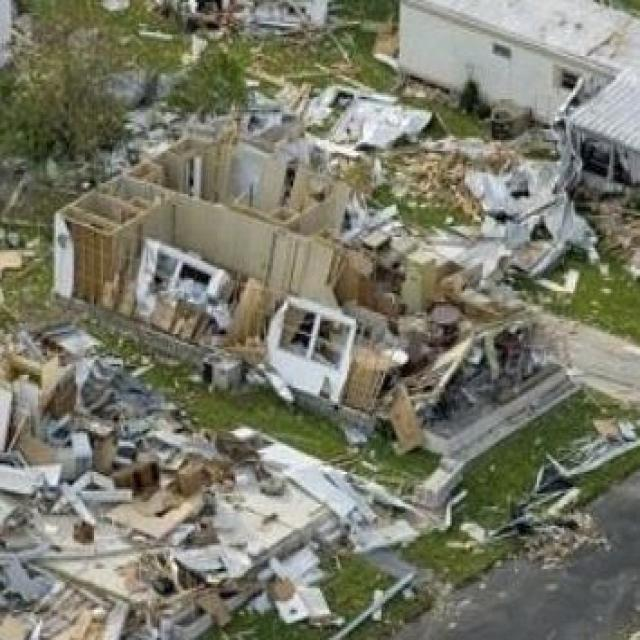collapsed_building: (40, 174, 562, 388), (0, 360, 327, 638)
